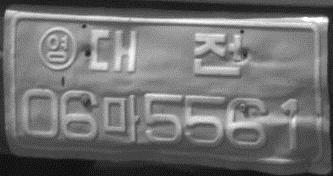0: (21, 88, 60, 139)
1: (278, 95, 301, 153)
5: (183, 93, 226, 150), (142, 90, 183, 144)
6: (226, 95, 267, 153), (57, 88, 98, 143)
대전_D: (87, 26, 243, 79)
마: (101, 92, 142, 145)
영: (37, 25, 78, 72)
